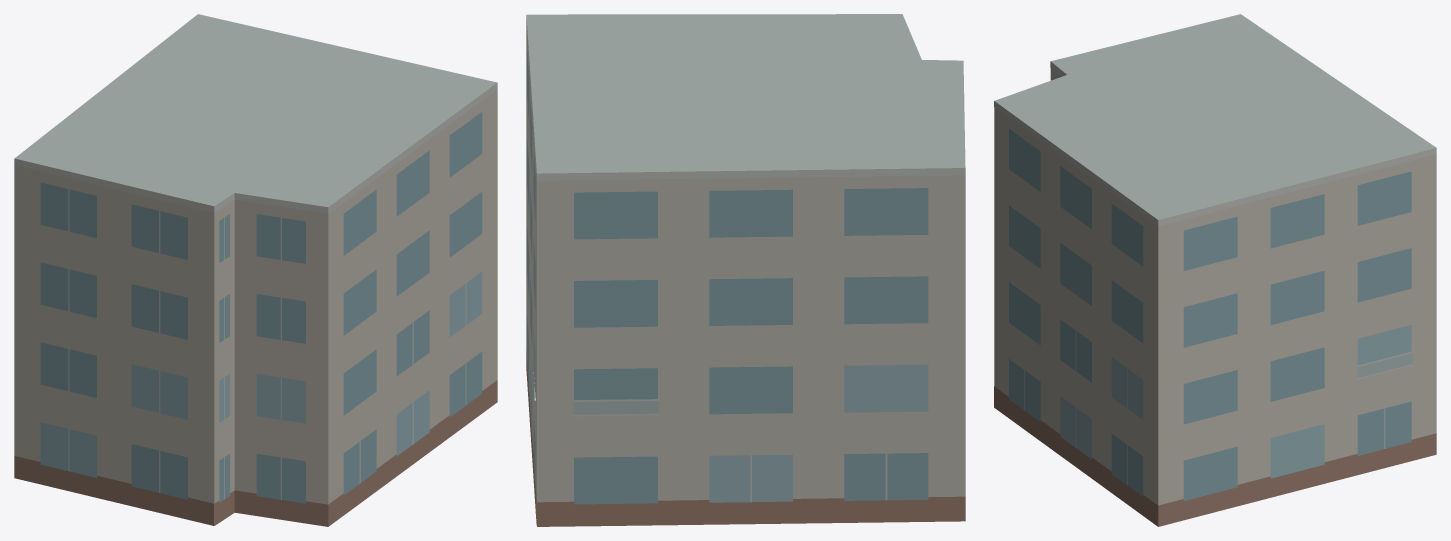
Rendered from survey-upis-32493232.glb.
The picture shows the model from 3 angles, left to right: view 1: azimuth 30°, elevation 25°; view 2: azimuth 150°, elevation 25°; view 3: azimuth 270°, elevation 25°; orthographic projection. The views are drawn at different scales.
Visible parts, largest first — view 1: survey-upis-32493232.tmp; view 2: survey-upis-32493232.tmp; view 3: survey-upis-32493232.tmp.
Part boxes in pixels (box(x1,y1,x2,y2)): survey-upis-32493232.tmp: box(14, 14, 497, 526); survey-upis-32493232.tmp: box(526, 14, 965, 526); survey-upis-32493232.tmp: box(994, 14, 1436, 526).
Size of the model in its own units: 17.01 by 11.8 by 15.43.
